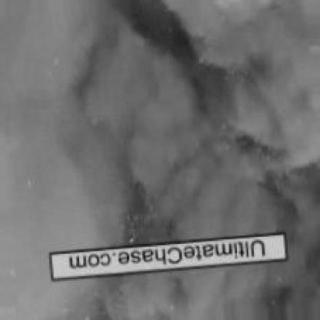Smoke: (16, 14, 302, 314)
